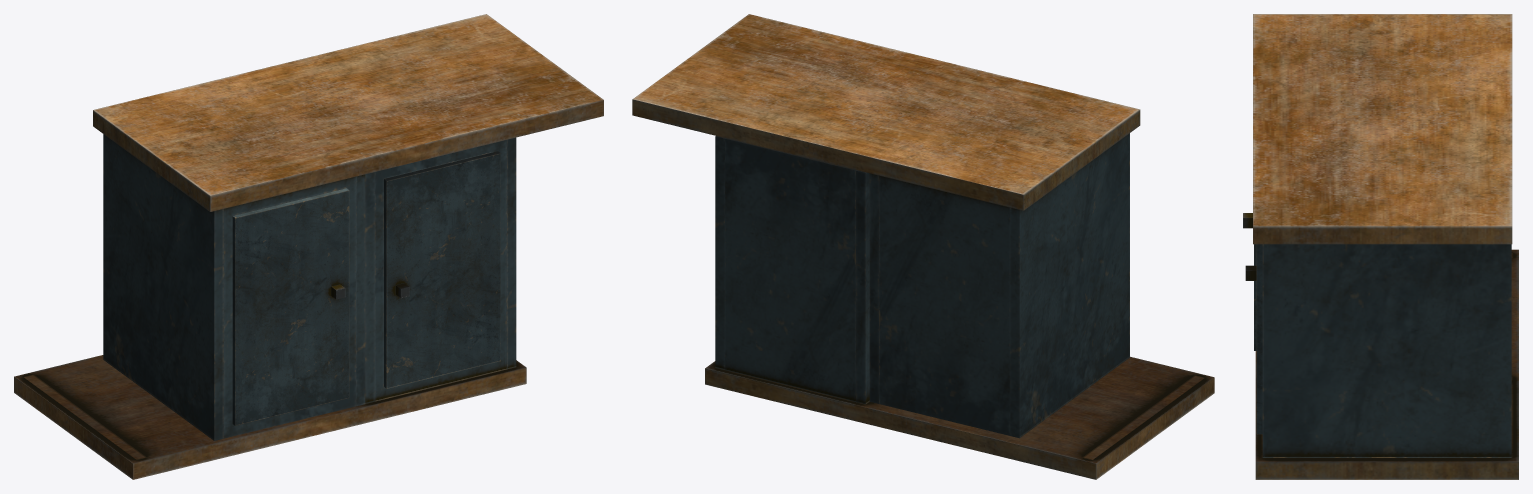
Rendered from buro.obj.
The picture shows the model from 3 angles, left to right: view 1: azimuth 30°, elevation 25°; view 2: azimuth 150°, elevation 25°; view 3: azimuth 270°, elevation 25°; orthographic projection. The views are drawn at different scales.
Visible parts, largest first — view 1: Mesh, Desk_Mesh; view 2: Mesh, Desk_Mesh; view 3: Desk_Mesh, Mesh.
Boxes of the visible parts, x1,y1,x2,y2 form: Mesh: (93, 14, 603, 440); Desk_Mesh: (14, 137, 526, 479); Mesh: (632, 14, 1140, 438); Desk_Mesh: (705, 136, 1214, 479); Desk_Mesh: (1245, 244, 1518, 479); Mesh: (1243, 14, 1512, 350).
Size of the model in its own units: 2.61 by 1.41 by 1.2.
1 material, 1 textured.
